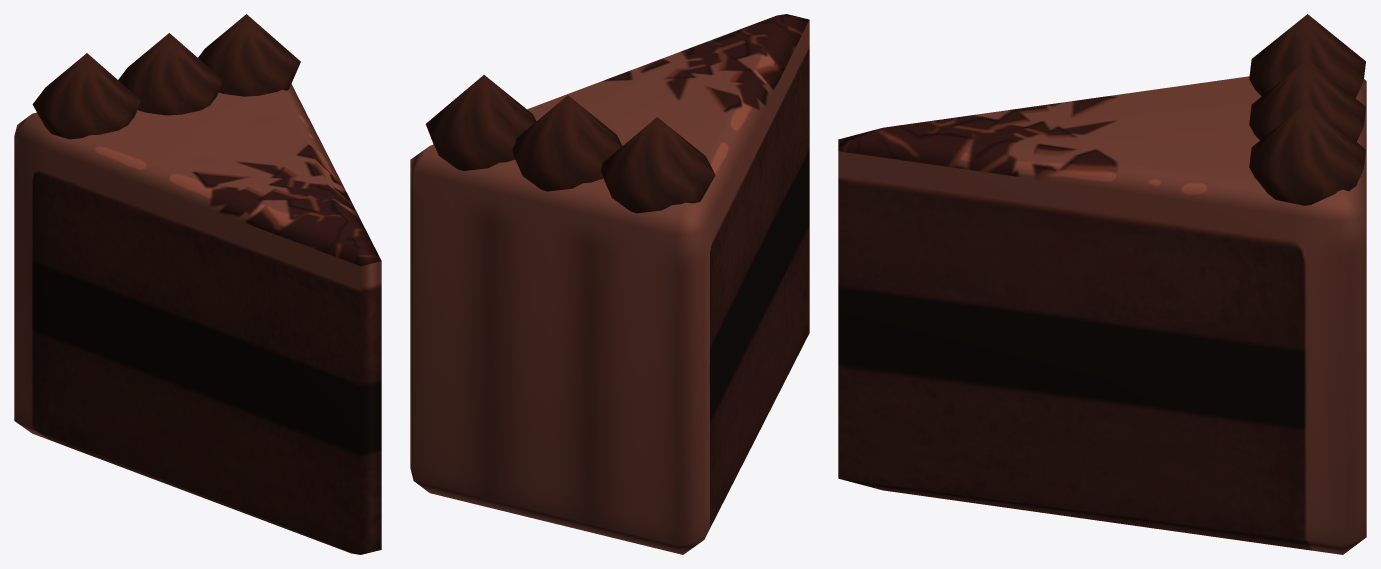
The model's file is Chocolate_Slice.fbx.
3 views of the same model, side by side, from view 1: azimuth 30°, elevation 25°; view 2: azimuth 150°, elevation 25°; view 3: azimuth 270°, elevation 25° (orthographic). The views are drawn at different scales.
Parts seen in each view (by area): view 1: Chocolate_Cake_Slice; view 2: Chocolate_Cake_Slice; view 3: Chocolate_Cake_Slice.
Boxes of the visible parts, x1,y1,x2,y2 form: Chocolate_Cake_Slice: (14,14,381,554); Chocolate_Cake_Slice: (410,14,809,554); Chocolate_Cake_Slice: (838,14,1366,554).
Size of the model in its own units: 26.02 by 35.13 by 38.81.
